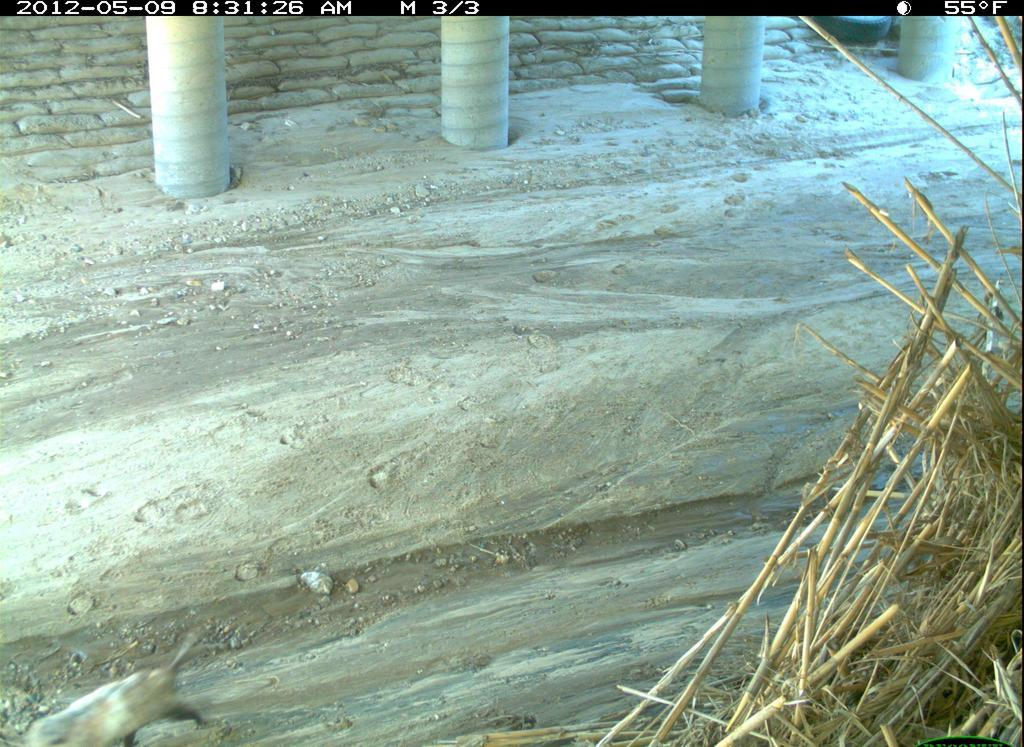opossum: (2, 629, 222, 745)
